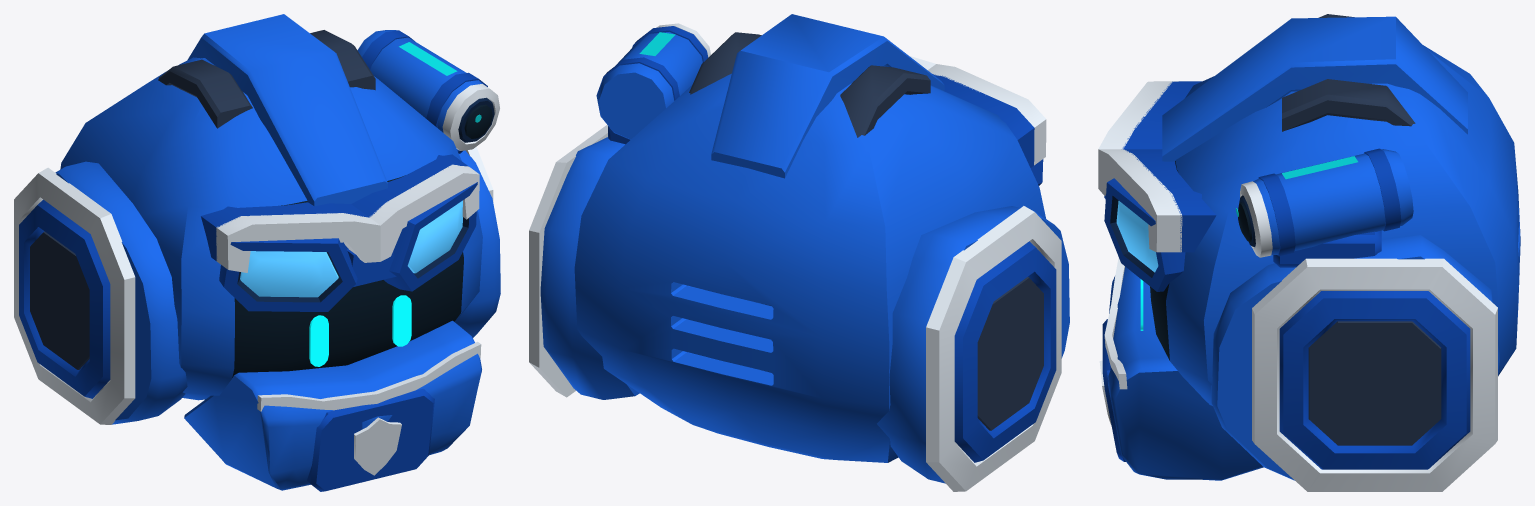
The model's file is copilot_security_v01.glb.
3 renders of one model, left to right at view 1: azimuth 30°, elevation 25°; view 2: azimuth 150°, elevation 25°; view 3: azimuth 270°, elevation 25°, orthographic. The views are drawn at different scales.
Parts seen in each view (by area): view 1: security_model; view 2: security_model; view 3: security_model.
Boxes of the visible parts, x1,y1,x2,y2 form: security_model: [14, 14, 500, 491]; security_model: [529, 14, 1069, 491]; security_model: [1098, 14, 1520, 491].
Bounding box in the file's own units: 2.61 × 2.34 × 2.23.
2 materials, 2 textured.
